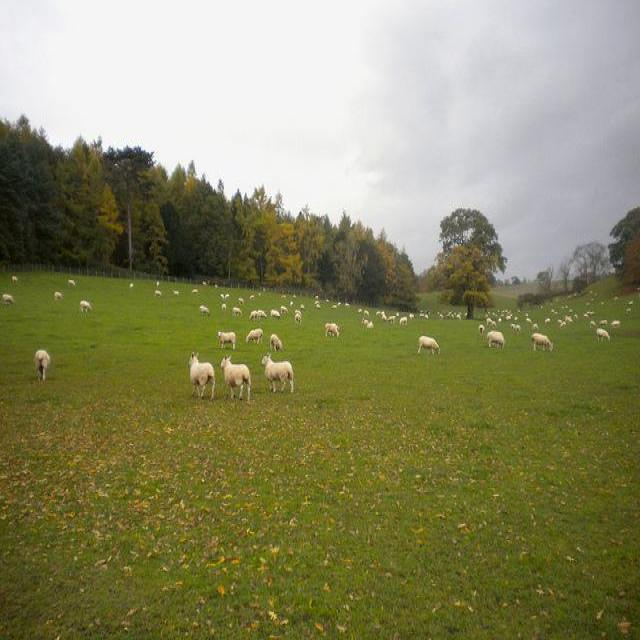Sheep: (1, 274, 639, 346)
